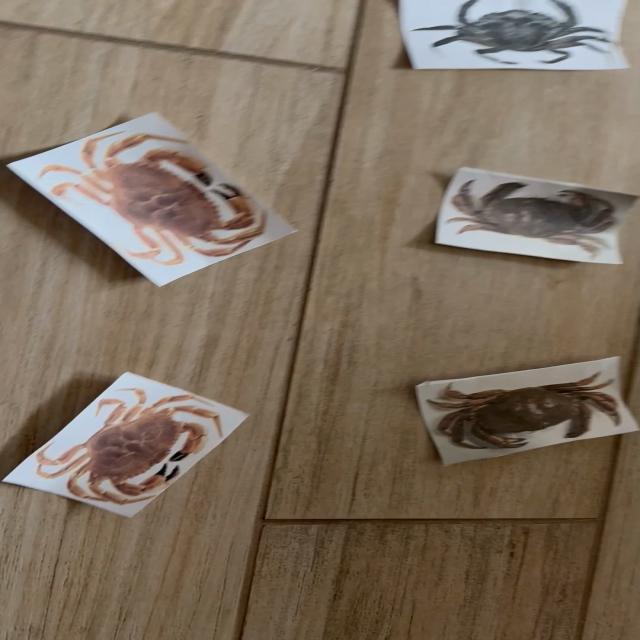egc: (412, 0, 611, 64)
